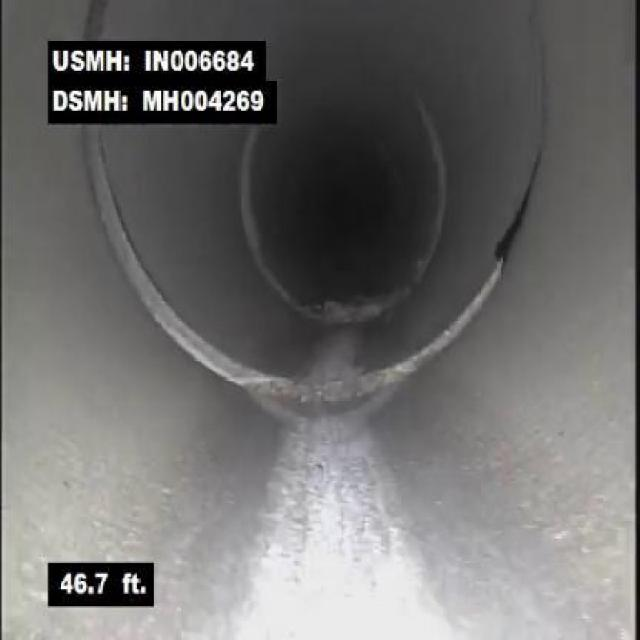Joint offset: (169, 329, 385, 406), (95, 178, 171, 336)
